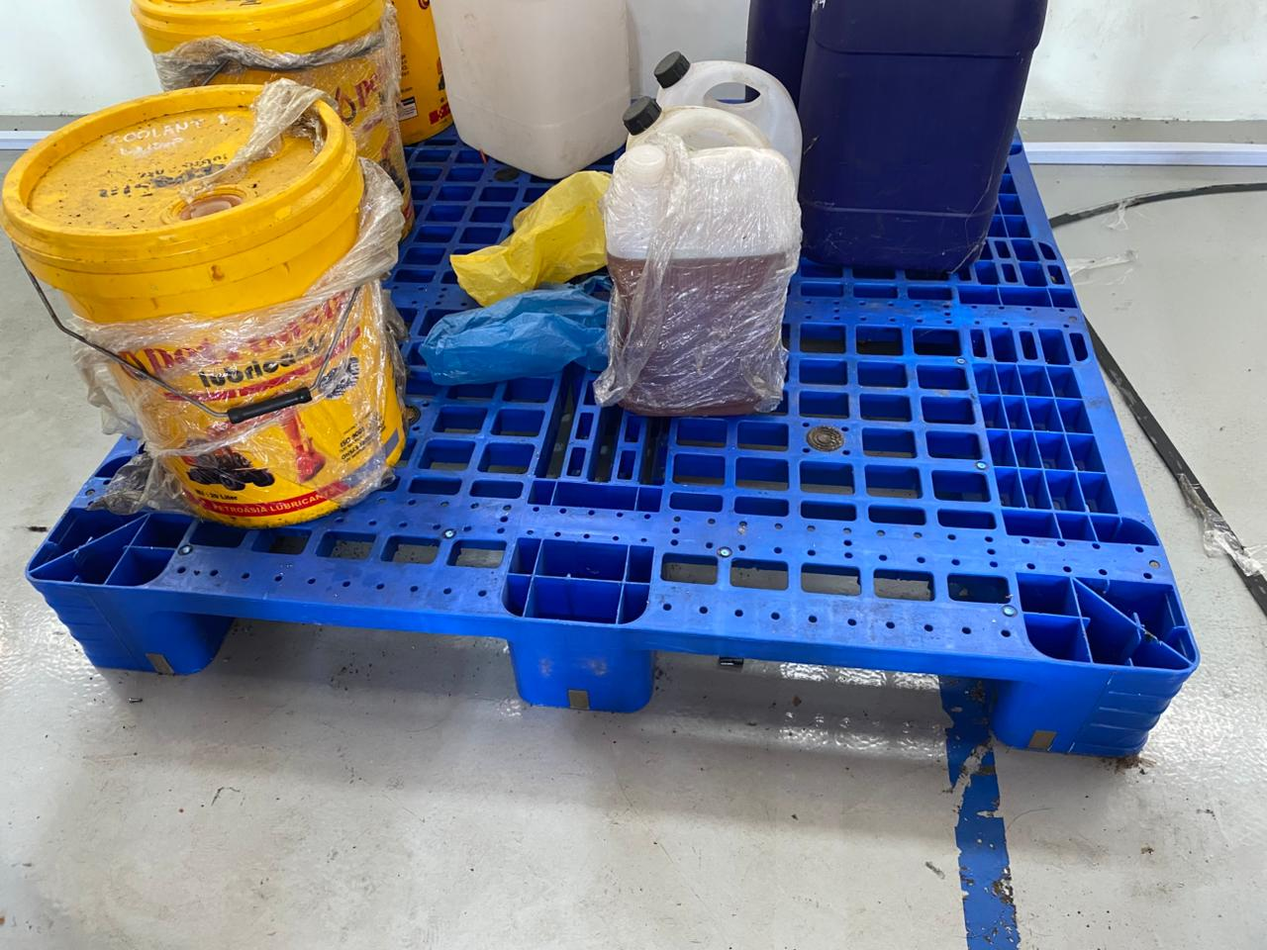block: (998, 659, 1199, 768), (24, 575, 196, 675), (509, 628, 653, 714)
front: (14, 568, 1235, 786)
hole pallet: (648, 640, 1012, 740), (184, 602, 521, 695)
